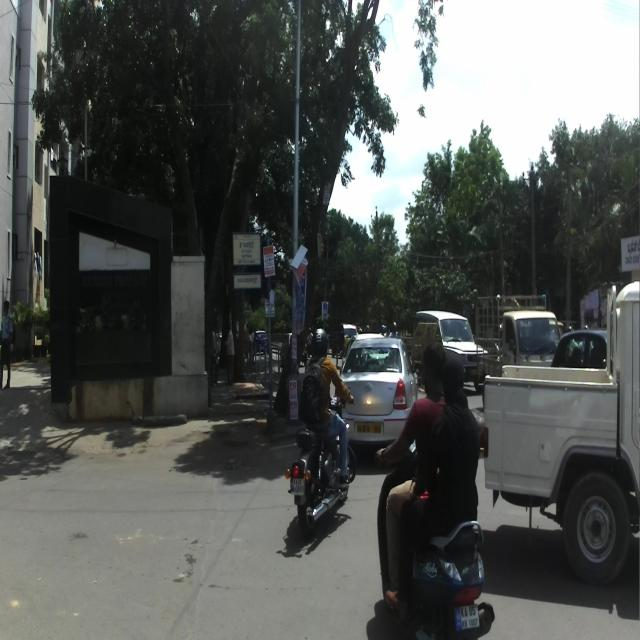car: (331, 337, 422, 462)
motorcycle: (373, 440, 494, 636), (284, 391, 354, 536)
truck: (482, 278, 639, 592)
